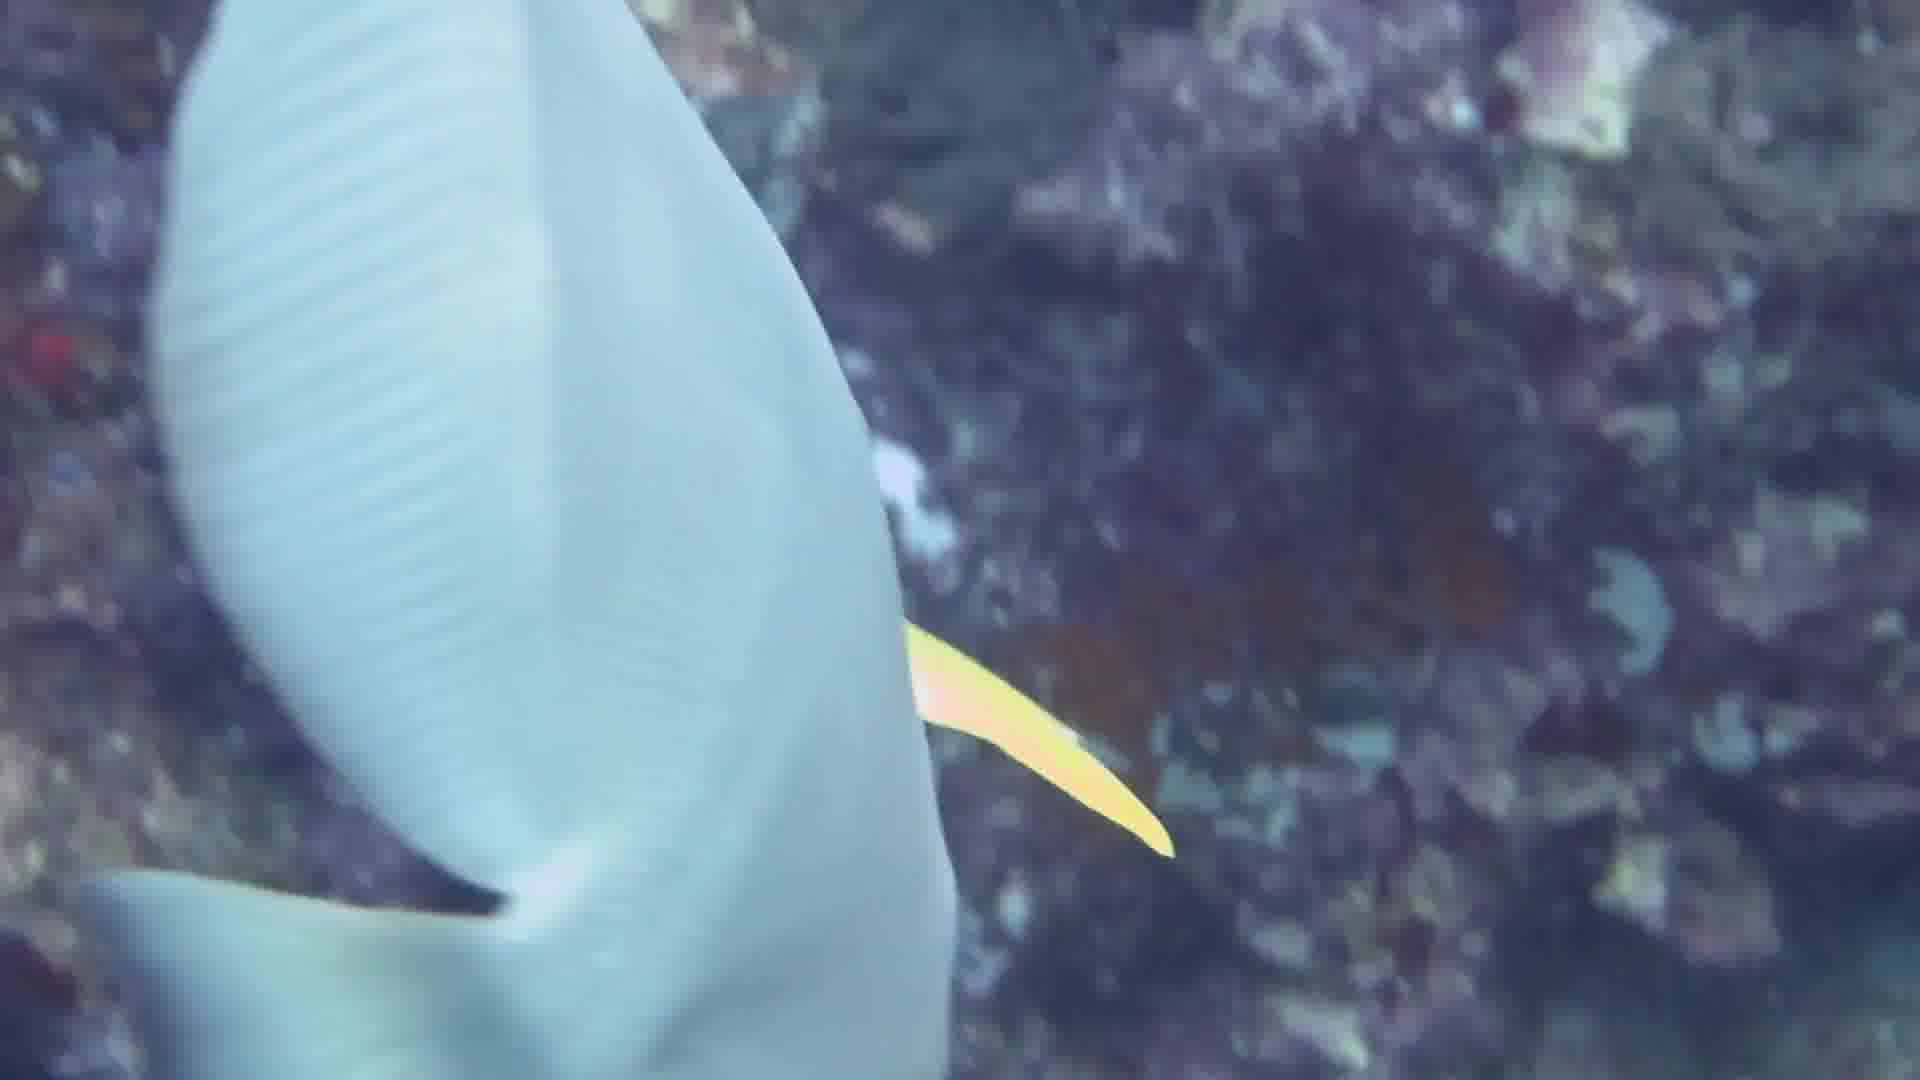Platax teira: (1, 1, 1203, 1080)
